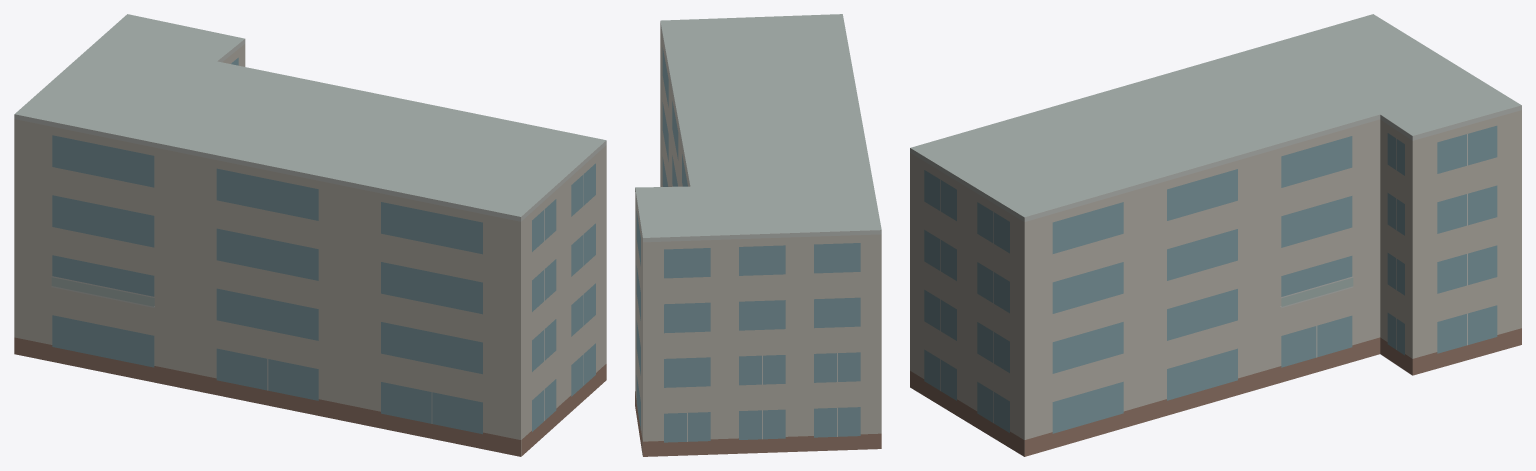
Rendered from survey-upis-33043023.glb.
The picture shows the model from 3 angles, left to right: view 1: azimuth 30°, elevation 25°; view 2: azimuth 150°, elevation 25°; view 3: azimuth 270°, elevation 25°; orthographic projection. The views are drawn at different scales.
Parts seen in each view (by area): view 1: survey-upis-33043023.tmp; view 2: survey-upis-33043023.tmp; view 3: survey-upis-33043023.tmp.
Boxes of the visible parts, bbox=[...] form: survey-upis-33043023.tmp: bbox=[14, 14, 606, 456]; survey-upis-33043023.tmp: bbox=[635, 14, 881, 456]; survey-upis-33043023.tmp: bbox=[910, 14, 1521, 456].
Size of the model in its own units: 22.22 by 12.2 by 28.25.
